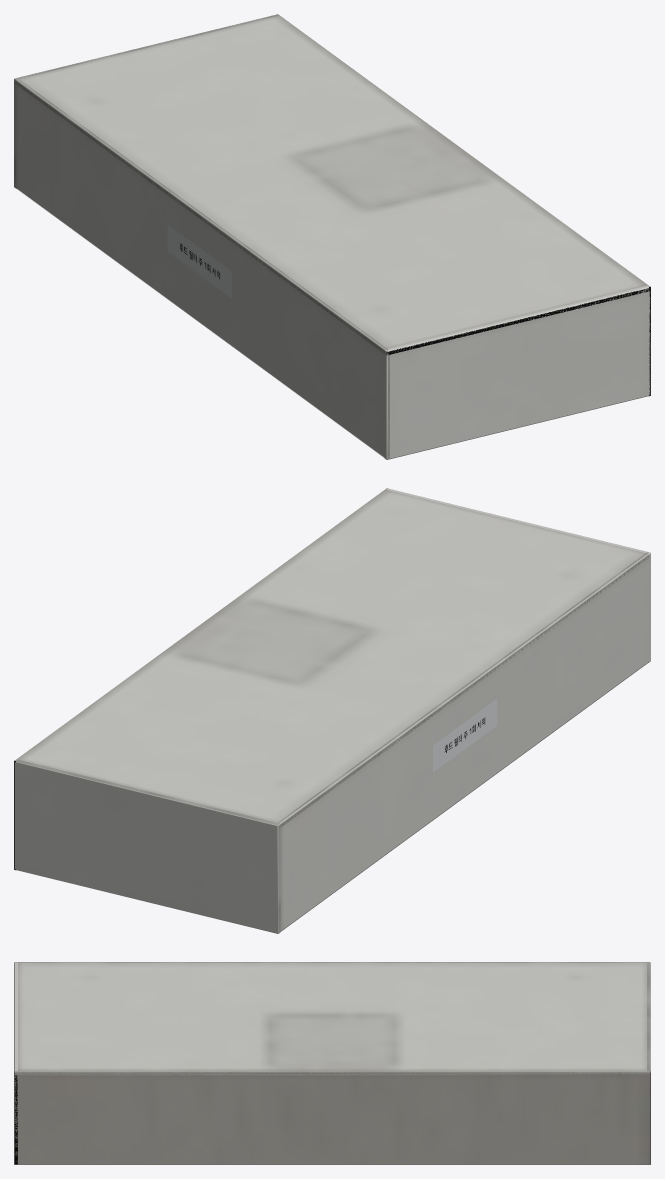
File: PH_Hood.fbx
3 renders of one model, top to bottom at view 1: azimuth 30°, elevation 25°; view 2: azimuth 150°, elevation 25°; view 3: azimuth 270°, elevation 25°, orthographic. The views are drawn at different scales.
Parts seen in each view (by area): view 1: PH_Hood; view 2: PH_Hood; view 3: PH_Hood.
Part boxes in pixels (left/top/right/bottom): PH_Hood: left=14, top=14, right=650, bottom=459; PH_Hood: left=14, top=488, right=650, bottom=933; PH_Hood: left=14, top=962, right=650, bottom=1164.
Size of the model in its own units: 1.07 by 0.42 by 2.6.
